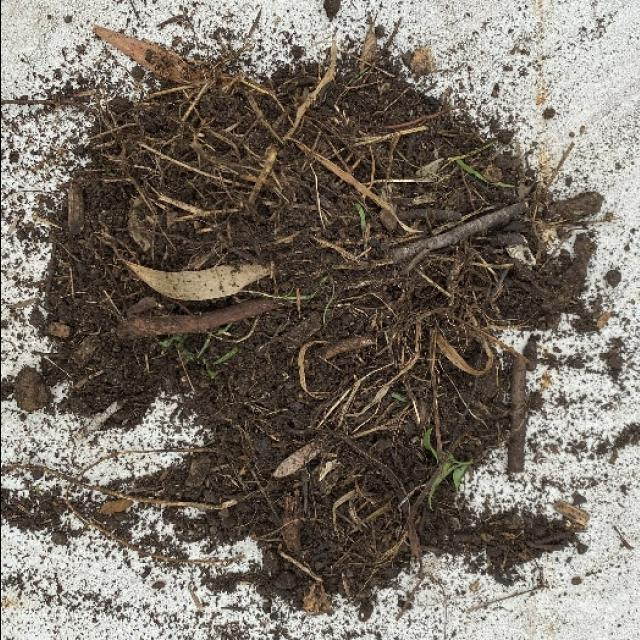organik: (63, 77, 565, 568)
